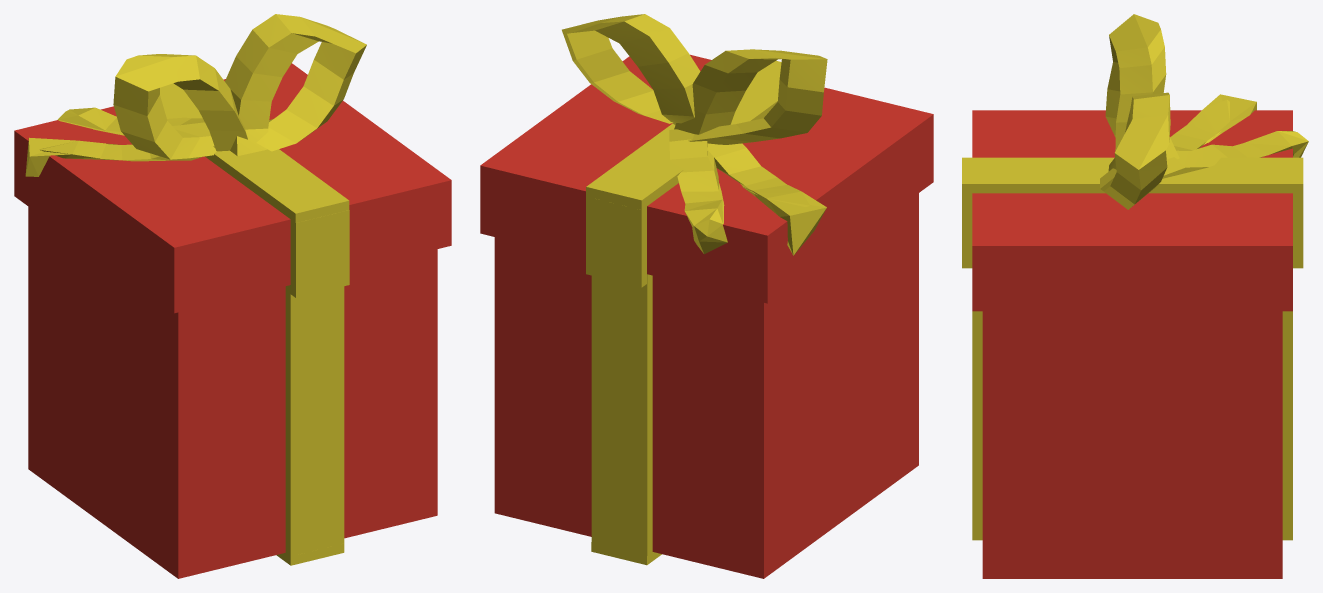
File: gift.gltf
3 views of the same model, side by side, from view 1: azimuth 30°, elevation 25°; view 2: azimuth 150°, elevation 25°; view 3: azimuth 270°, elevation 25° (orthographic). The views are drawn at different scales.
Parts seen in each view (by area): view 1: node_MeshObject-23165952-PolyPaper21; view 2: node_MeshObject-23165952-PolyPaper21; view 3: node_MeshObject-23165952-PolyPaper21.
Part boxes in pixels (bbox=[...]): node_MeshObject-23165952-PolyPaper21: bbox=[14, 14, 451, 578]; node_MeshObject-23165952-PolyPaper21: bbox=[480, 14, 933, 578]; node_MeshObject-23165952-PolyPaper21: bbox=[962, 14, 1308, 578].
Bounding box in the file's own units: 0.3334 × 0.4905 × 0.3353.
